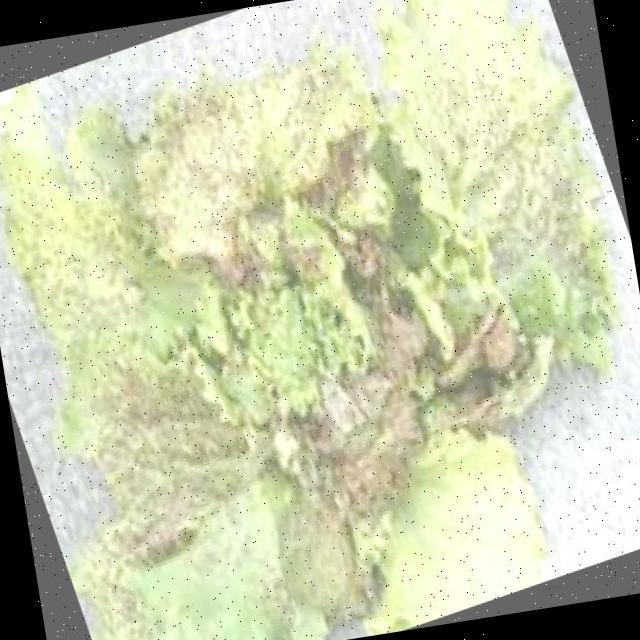Lettuce Mosaic Virus: (0, 4, 627, 550)
